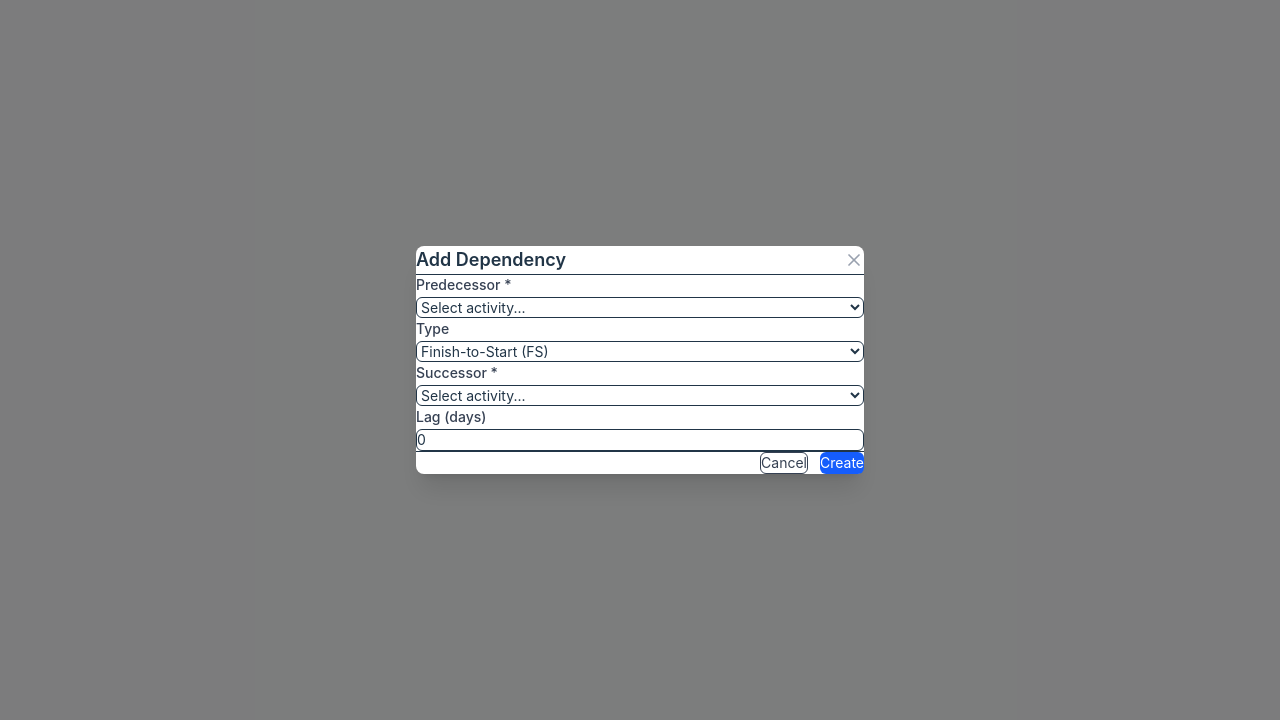
DependencyFormModal › form submission error path › shows error toast with Error message when mutateAsync rejects with Error
The image size is (1280, 720).
Select "A-001 - Design" in the dropdown labelled "Predecessor *": (640, 308) [416,297,864,318]
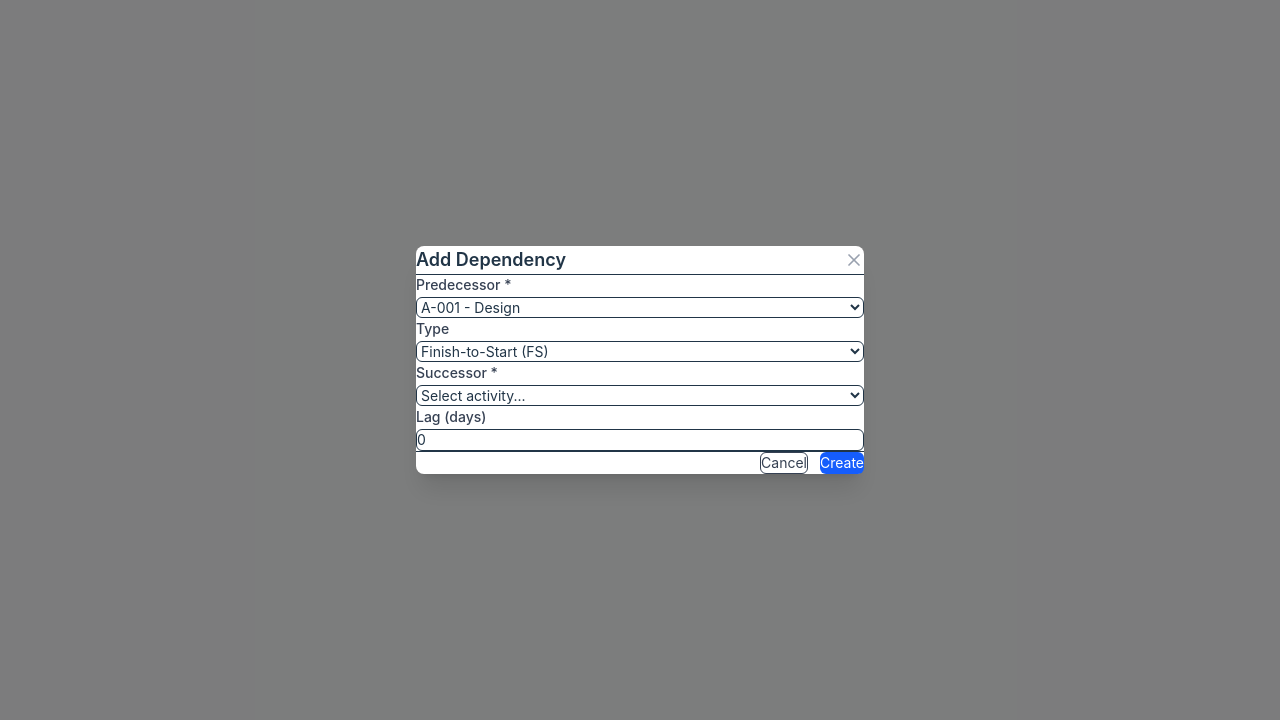
Select "A-002 - Build" in the dropdown labelled "Successor *": (640, 396) [416,385,864,406]
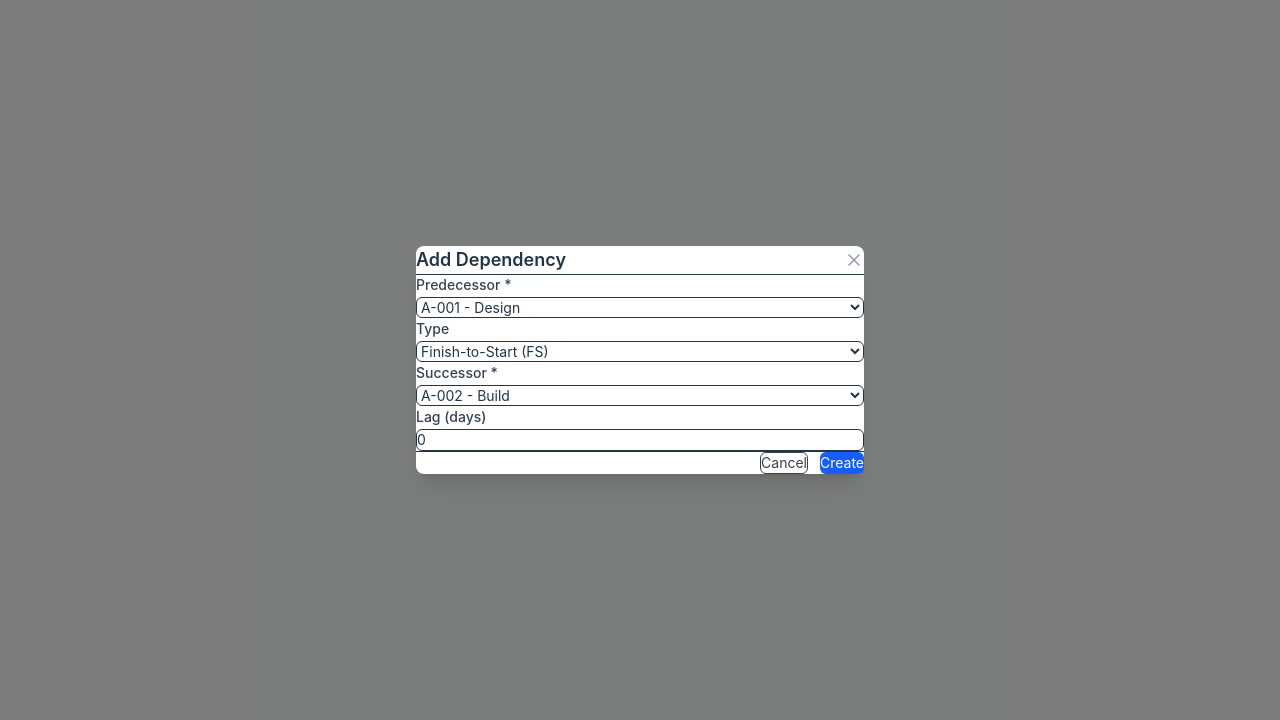
Submit the form from the button "Create", box [820,452,864,474]
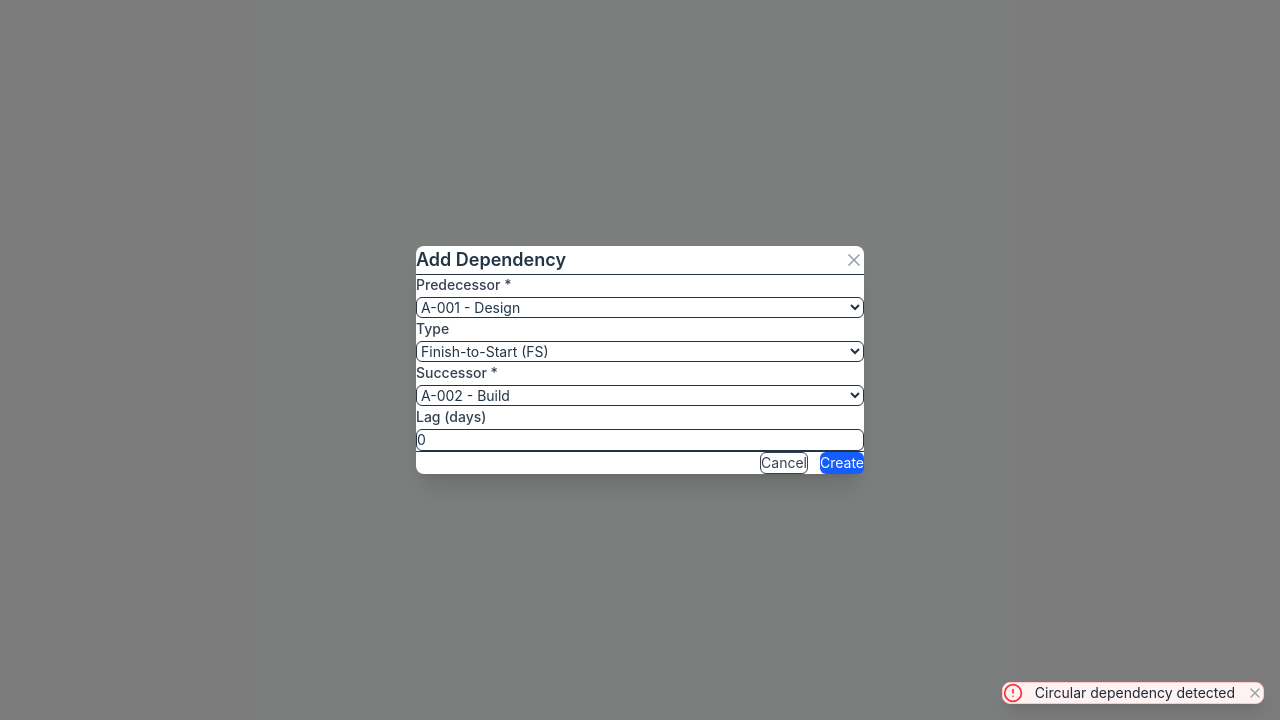
Expected: the text "Circular dependency detected" is shown, [1035,683,1235,703]
